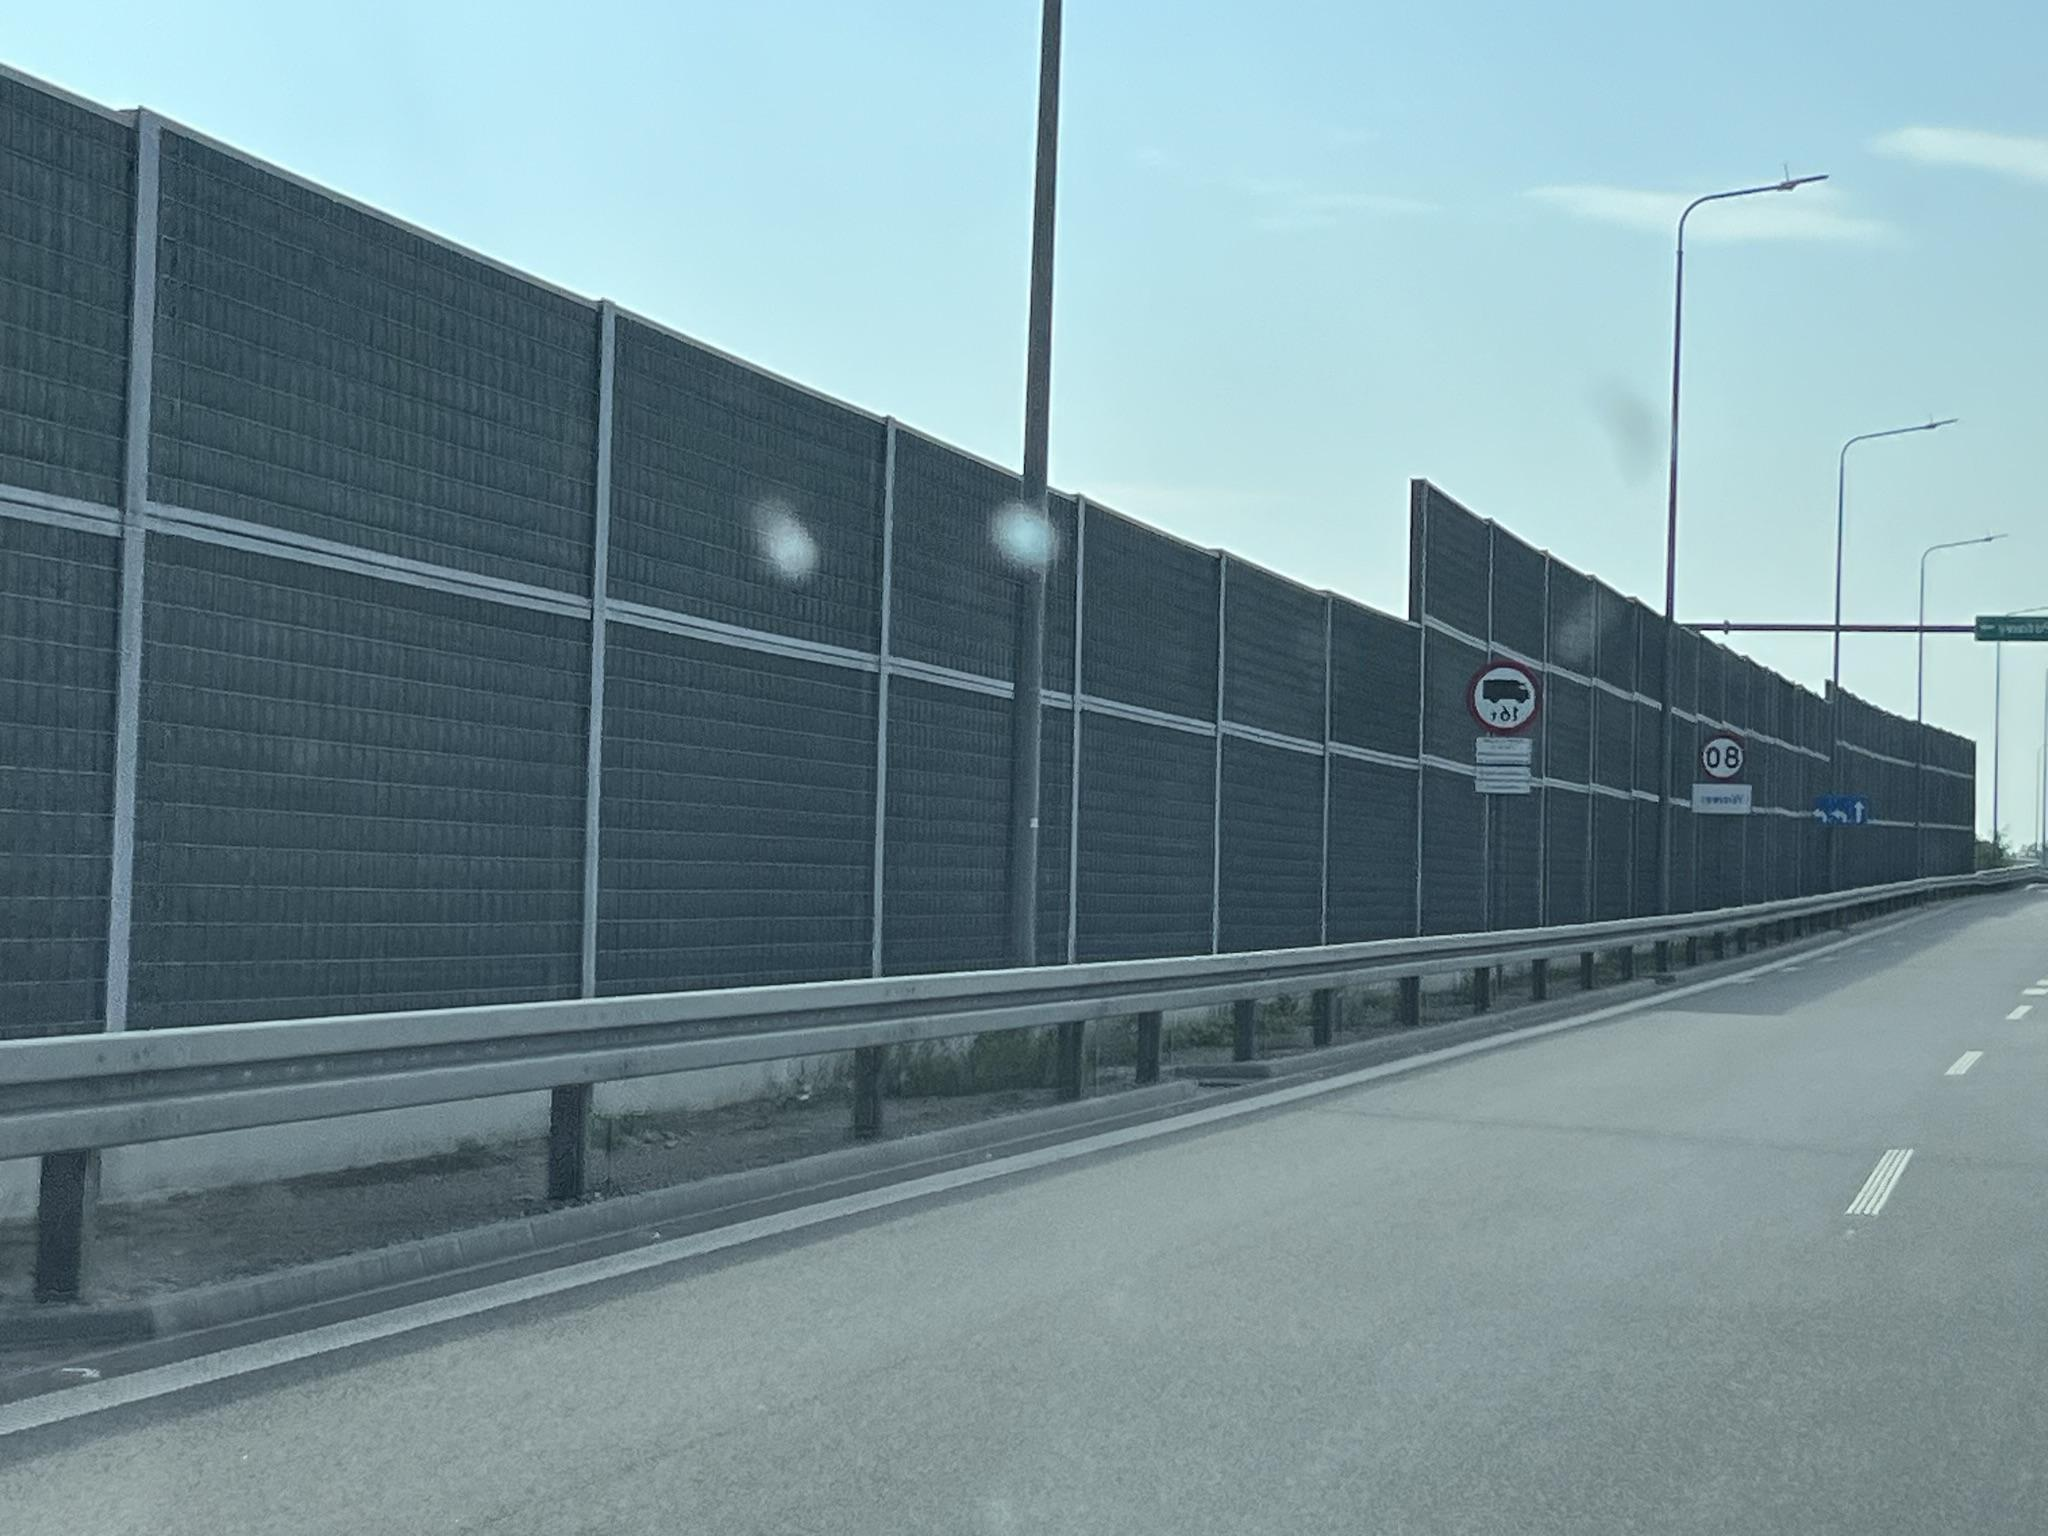direction-city: (1972, 615, 2048, 642), (1688, 784, 1753, 815)
other: (1806, 794, 1867, 828), (1472, 736, 1535, 763), (1476, 765, 1534, 794)
prohibitory: (1466, 658, 1543, 737), (1698, 736, 1746, 781)
